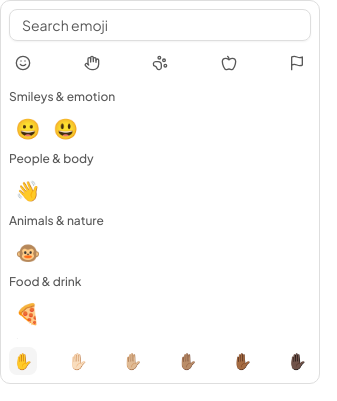
it: EmojiPicker › says when nothing matches
Check: the button named "grinning face" is shown, box top-left (9, 109), bottom-right (47, 147)
Type "zzzzz" into the search field labelled "Search emoji". click: (160, 25)
box: top-left (9, 9), bottom-right (311, 41)
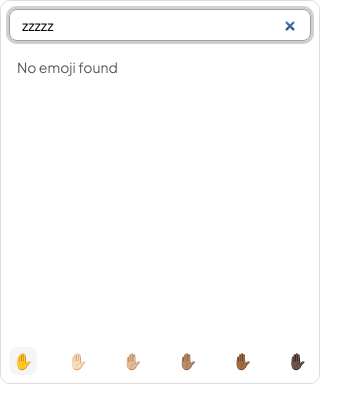
Check: the text "No emoji found" is shown, box top-left (17, 58), bottom-right (118, 76)
